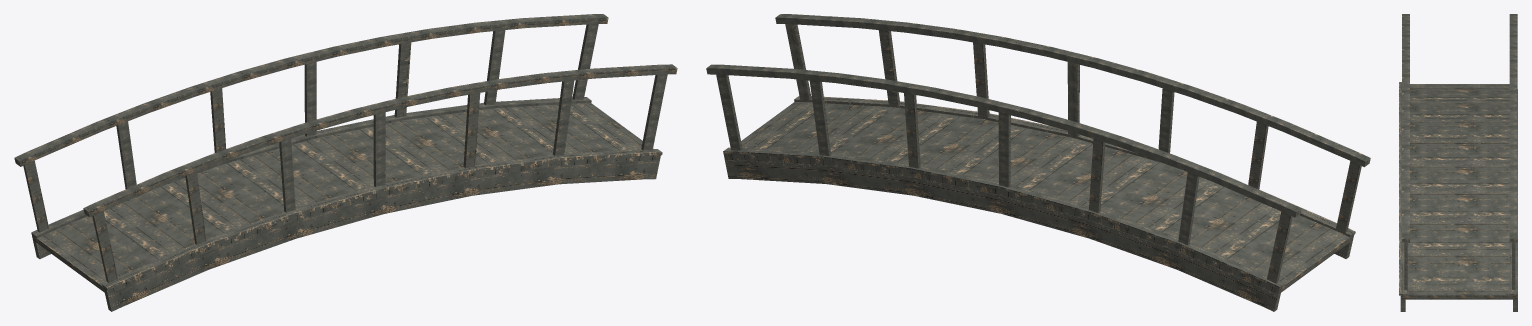
File: PonteDeMadeira.fbx
The picture shows the model from 3 angles, left to right: view 1: azimuth 30°, elevation 25°; view 2: azimuth 150°, elevation 25°; view 3: azimuth 270°, elevation 25°; orthographic projection. The views are drawn at different scales.
Visible parts, largest first — view 1: PonteMadeira; view 2: PonteMadeira; view 3: PonteMadeira.
Part boxes in pixels (x1,y1,x2,y2): PonteMadeira: (14, 14, 677, 311); PonteMadeira: (706, 14, 1370, 311); PonteMadeira: (1399, 14, 1517, 311).
Size of the model in its own units: 1123 by 251 by 251.
Materials: 1 (1 with a texture image).
